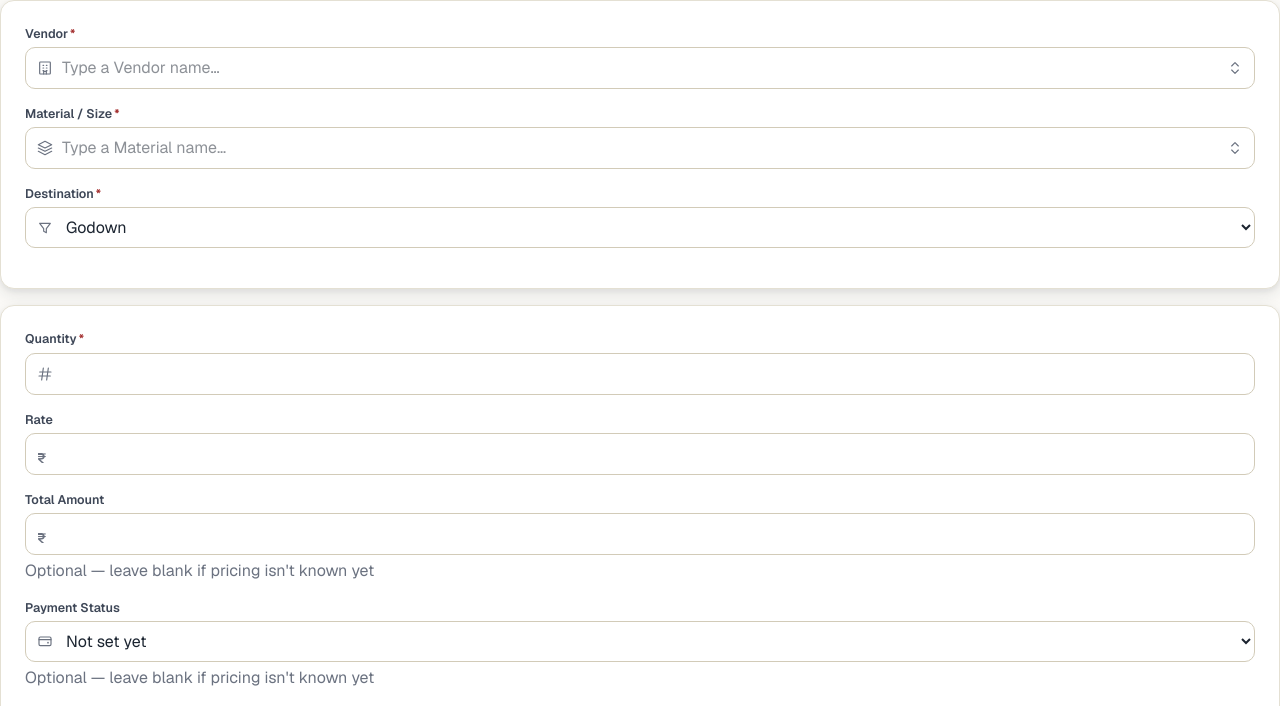
Test: PurchaseForm › Story 9.1 / inline quick-create: sources the Vendor field from a searchable Vendor picker, not free text, with an always-visible + Add Vendor row
The image size is (1280, 706).
Click the dropdown labelled "Vendor": (640, 68) x1=25 y1=47 x2=1255 y2=89
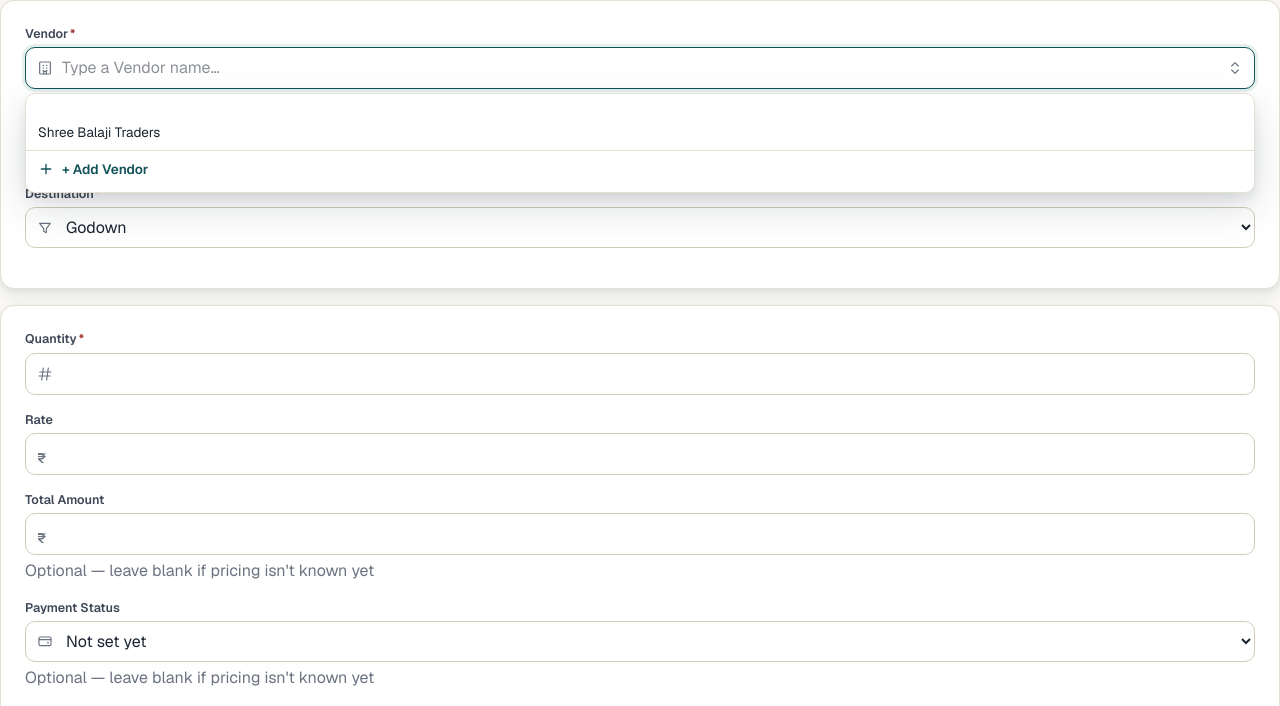
expect the button "+ Add Vendor" is shown: met, box x1=26 y1=150 x2=1254 y2=188
